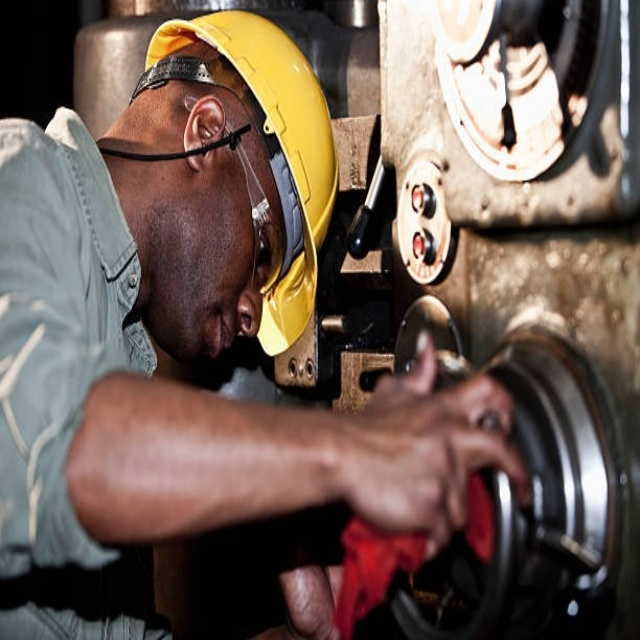Gafas: (223, 121, 288, 295)
Sin_guantes: (340, 335, 526, 550)
Sin_mascara: (180, 281, 237, 370)
